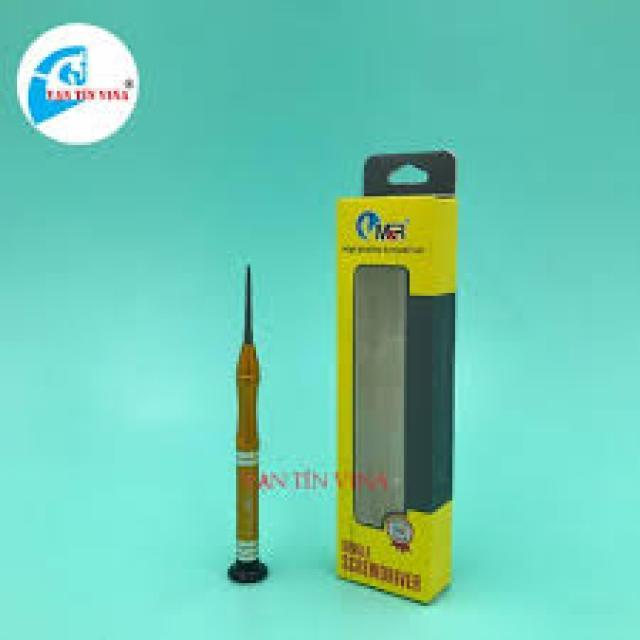screwdriver: (226, 260, 269, 585)
